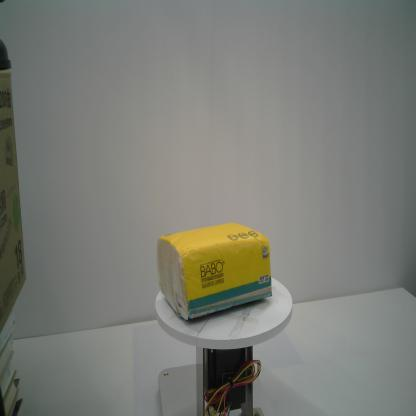Tissue: (155, 220, 273, 322)
